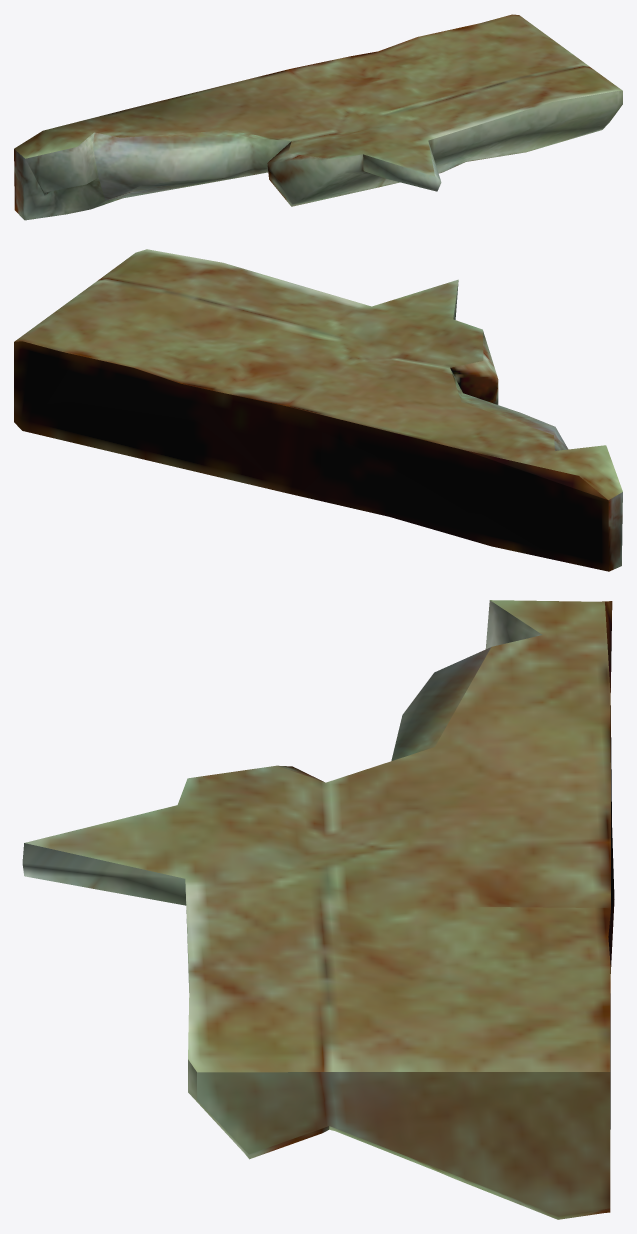
File: Ruins_Trim_Base_DMG_8M_A.fbx
3 renders of one model, top to bottom at view 1: azimuth 30°, elevation 25°; view 2: azimuth 150°, elevation 25°; view 3: azimuth 270°, elevation 25°, orthographic. The views are drawn at different scales.
Parts seen in each view (by area): view 1: Ruins_Trim_Base_DMG_8M_A; view 2: Ruins_Trim_Base_DMG_8M_A; view 3: Ruins_Trim_Base_DMG_8M_A.
Part boxes in pixels (<box>): Ruins_Trim_Base_DMG_8M_A: <box>14,14,622,220</box>; Ruins_Trim_Base_DMG_8M_A: <box>14,249,622,571</box>; Ruins_Trim_Base_DMG_8M_A: <box>22,600,614,1219</box>.
Size of the model in its own units: 550 by 88.52 by 279.
